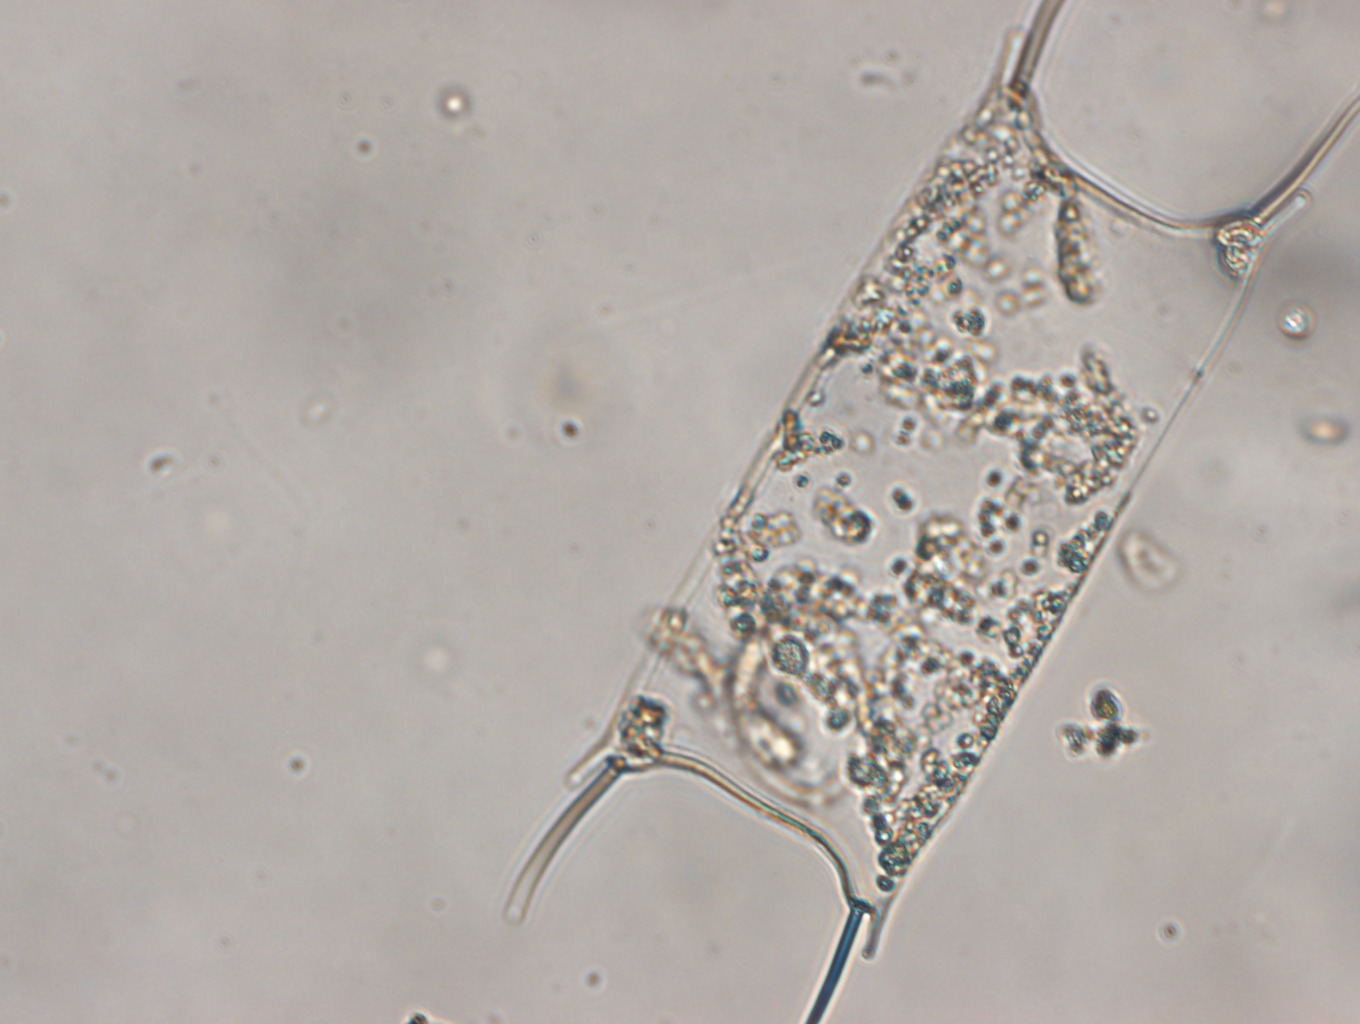biddulphia: (503, 1, 1360, 1024)
